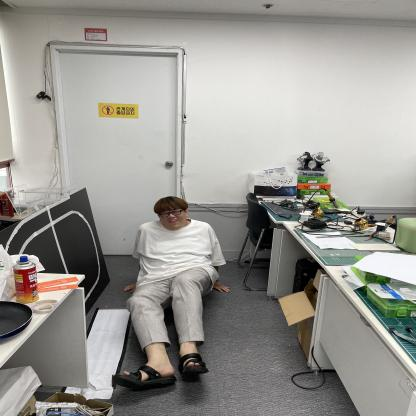fall: (124, 193, 227, 394)
